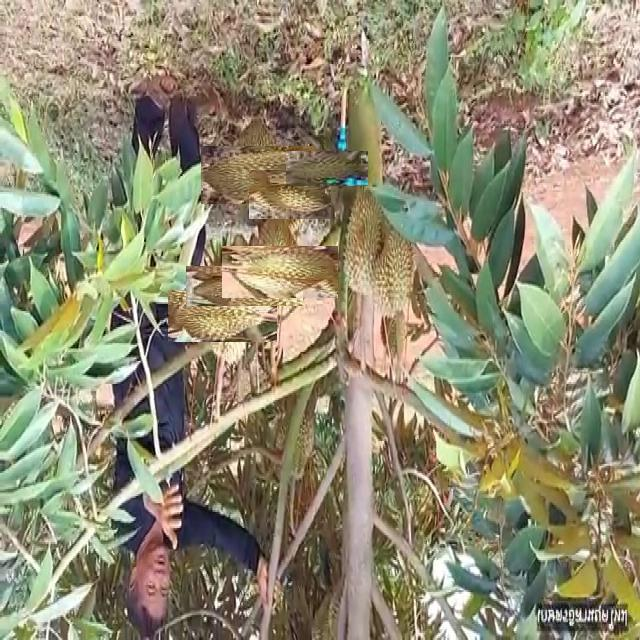durian: (215, 132, 301, 218), (238, 230, 323, 314), (182, 276, 263, 356), (205, 247, 283, 326), (341, 188, 387, 302), (372, 224, 417, 322), (258, 162, 324, 228), (298, 140, 357, 198)
